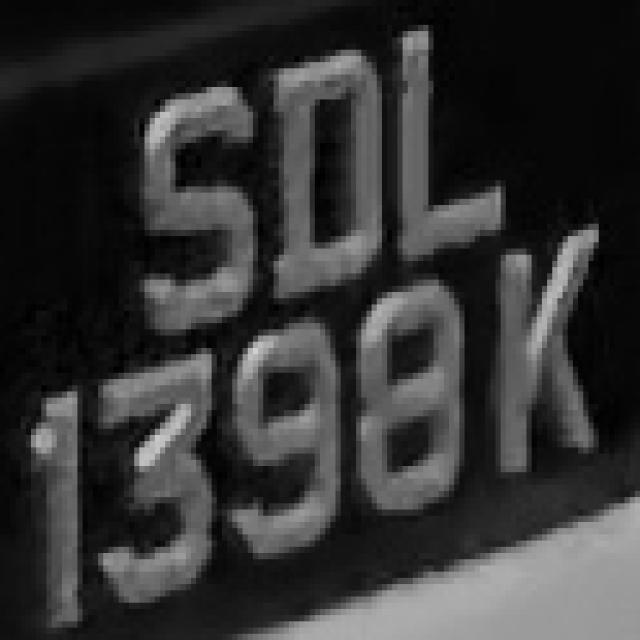1: (31, 354, 98, 634)
3: (78, 348, 232, 603)
8: (356, 273, 475, 516)
9: (212, 310, 351, 572)
D: (258, 31, 382, 298)
K: (490, 236, 609, 485)
L: (382, 31, 511, 267)
S: (109, 74, 264, 330)
